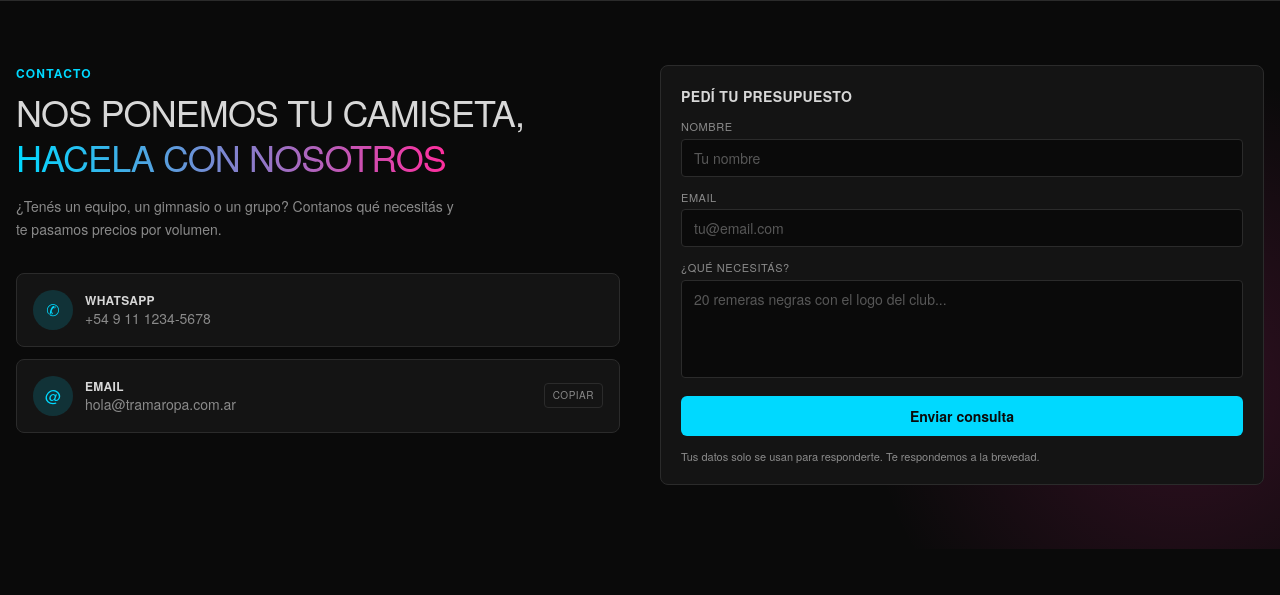
Test: Contact › muestra un error si el envío falla
Step 1. Type "Juan" into the field labelled "Nombre" → [962, 158], box [681, 138, 1243, 176]
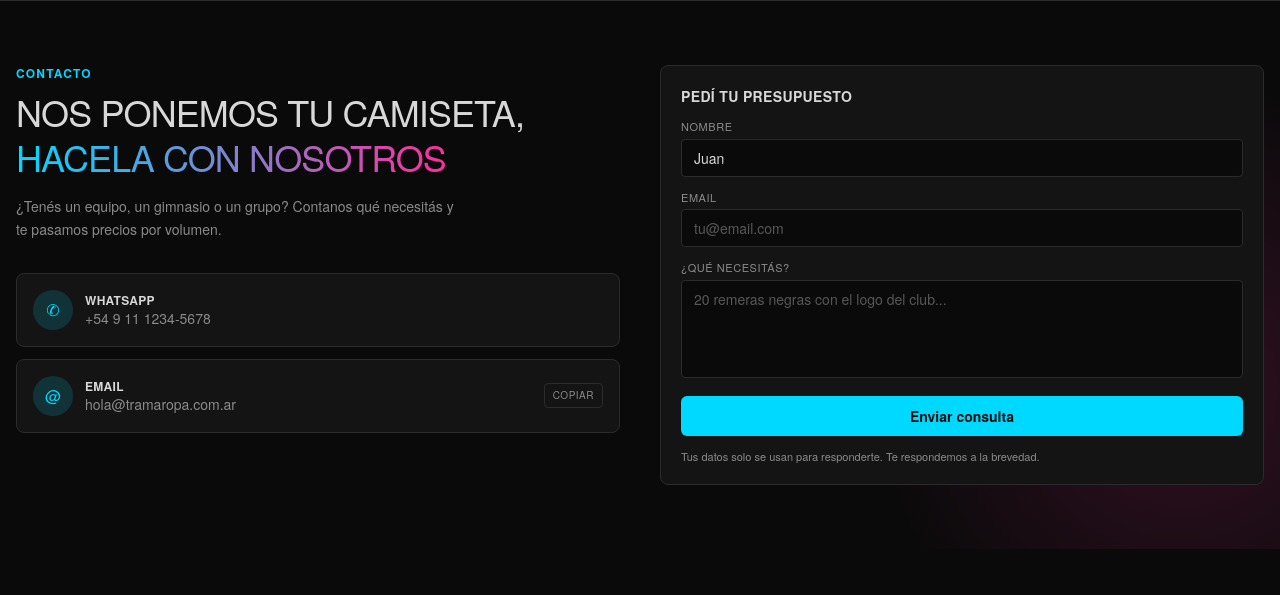
Step 2. Type "juan@test.com" into the field labelled "Email" → [962, 228], box [681, 209, 1243, 247]
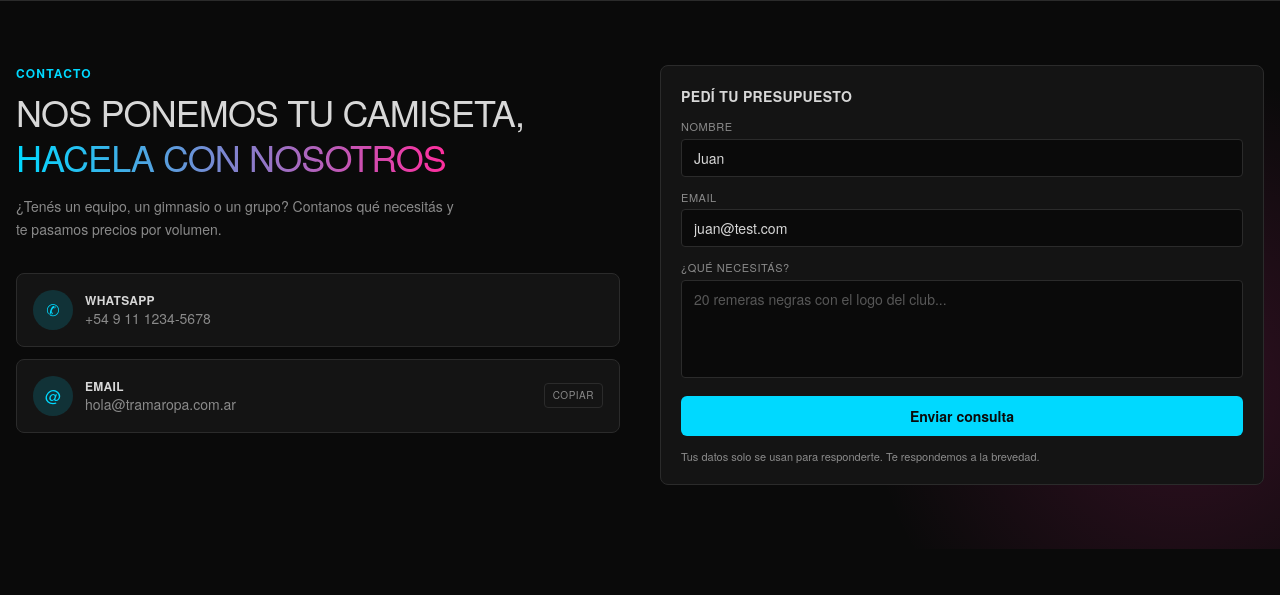
Step 3. Type "Consulta" into the text box labelled "¿Qué necesitás?" → [962, 328], box [681, 280, 1243, 378]
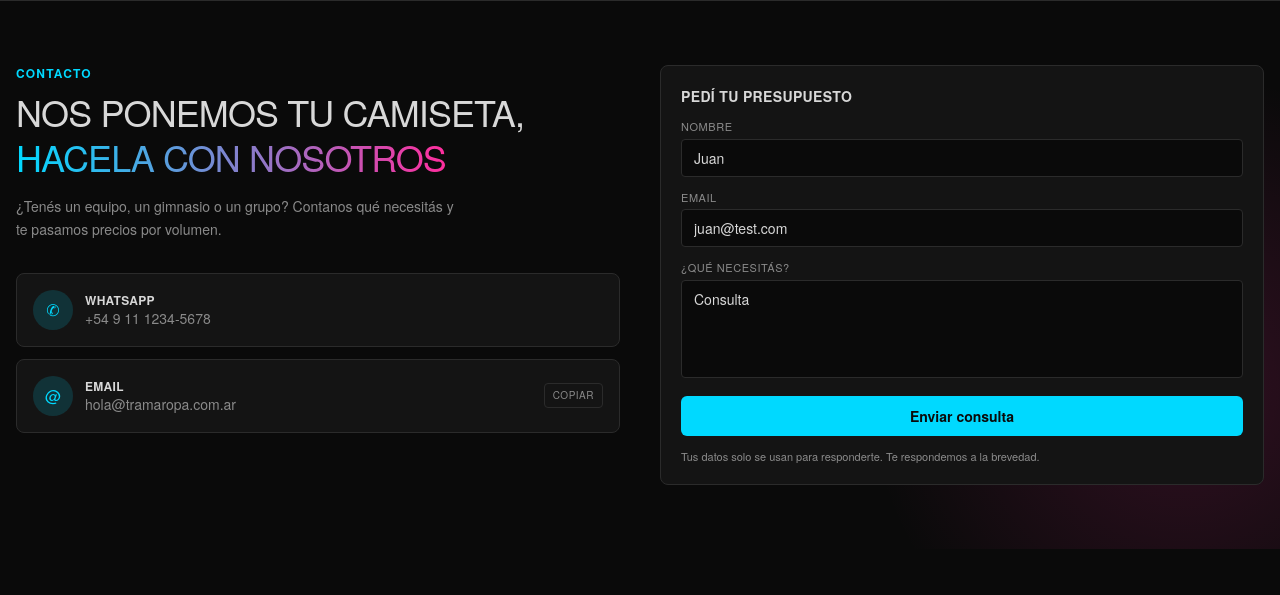
Step 4. Click the button "Enviar consulta" → [962, 416], box [681, 396, 1243, 436]
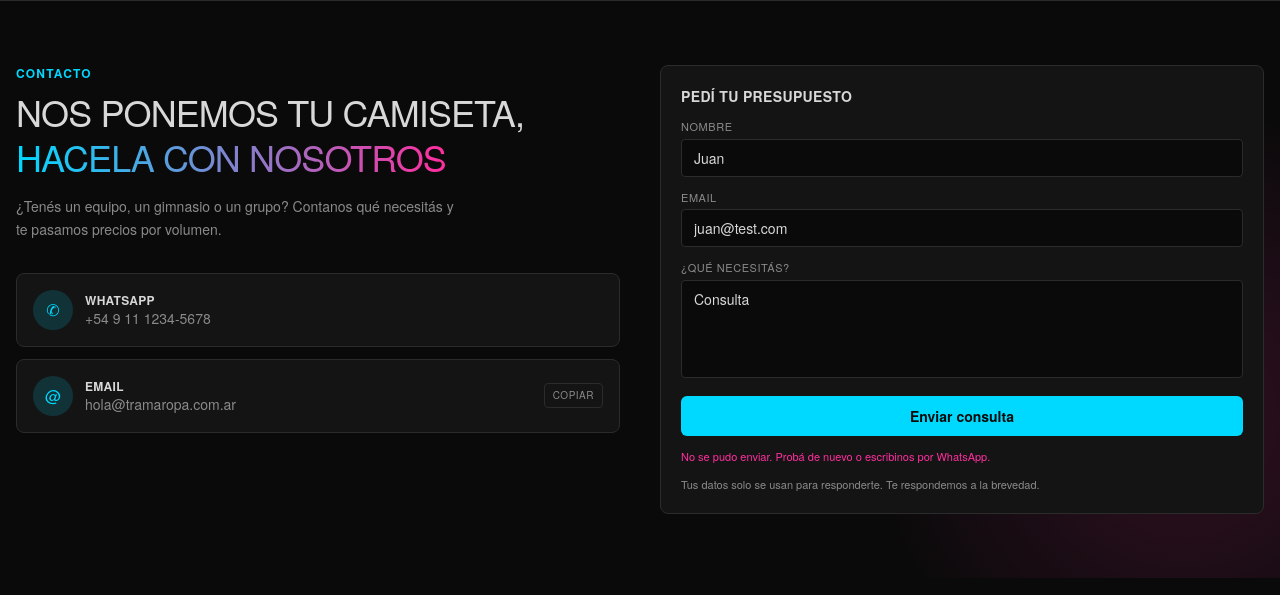
Now the message shows "No se pudo enviar", box [681, 448, 990, 464]
